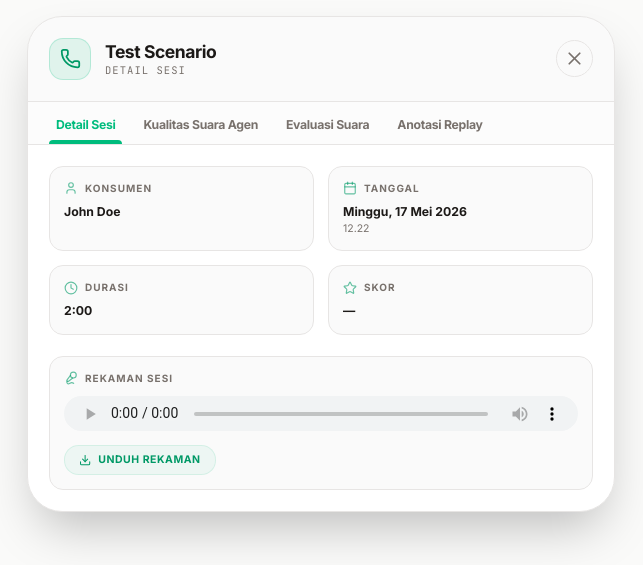
Test: ReviewModal Integration › handles voice dashboard transient error and successful retry
The image size is (643, 565).
// Click Voice Evaluation Tab
Click the button "Evaluasi Suara".
click(328, 130)  # box [279,116,376,144]
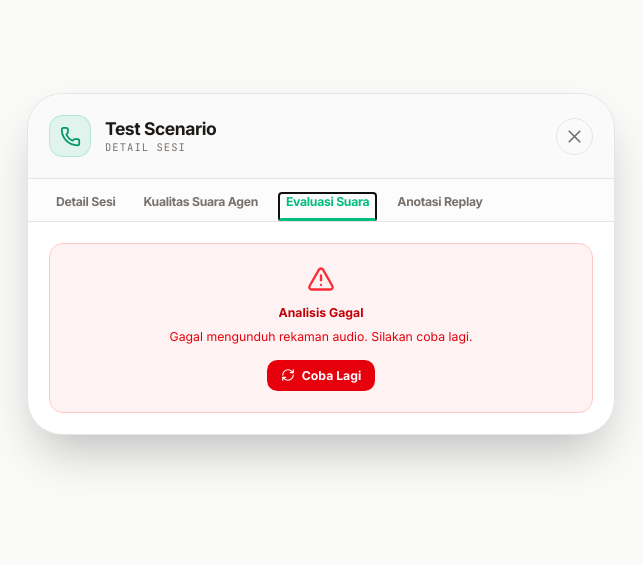
Check: the heading "Analisis Gagal" is shown, box [278,304,364,320]
Check: the text "Gagal mengunduh rekaman audio. Silakan coba lagi." is shown, box [170,329,472,344]
// Click Retry Button
Click the button "Coba Lagi".
click(321, 375)  # box [267,360,375,391]
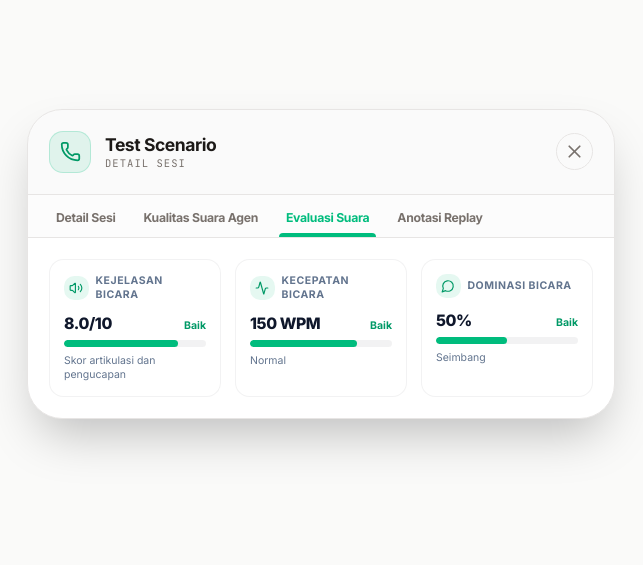
Check: the heading "Analisis Gagal" is gone
Check: the text "Kejelasan Bicara" is shown, box [96,274,163,301]
Check: the text "8.0/10" is shown, box [64,312,112,337]
